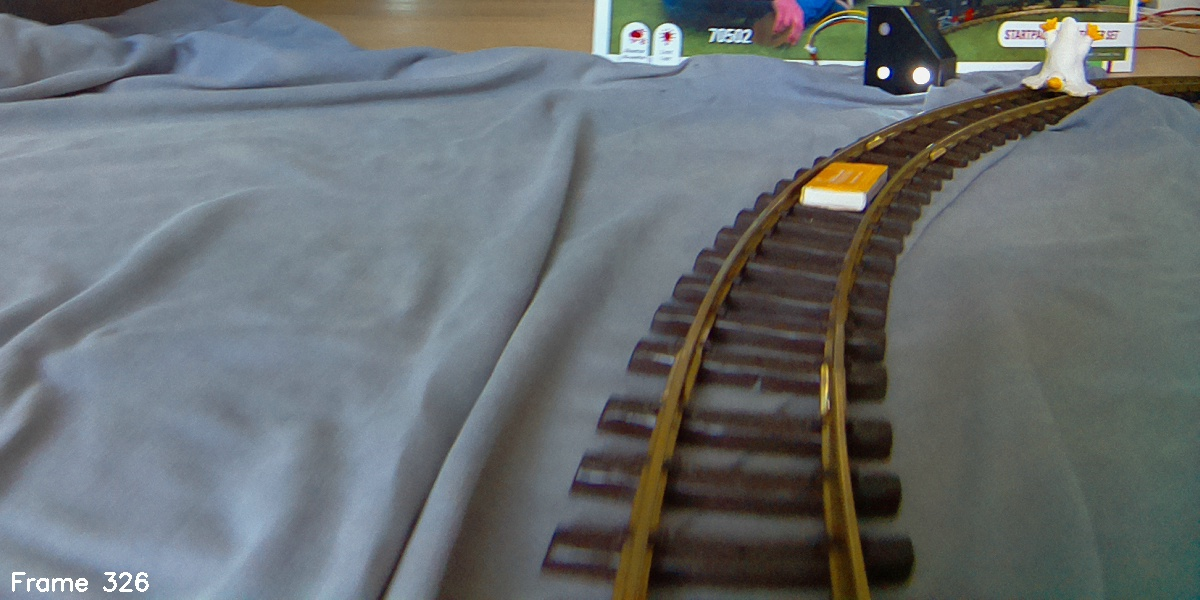Halt: (864, 3, 959, 84)
